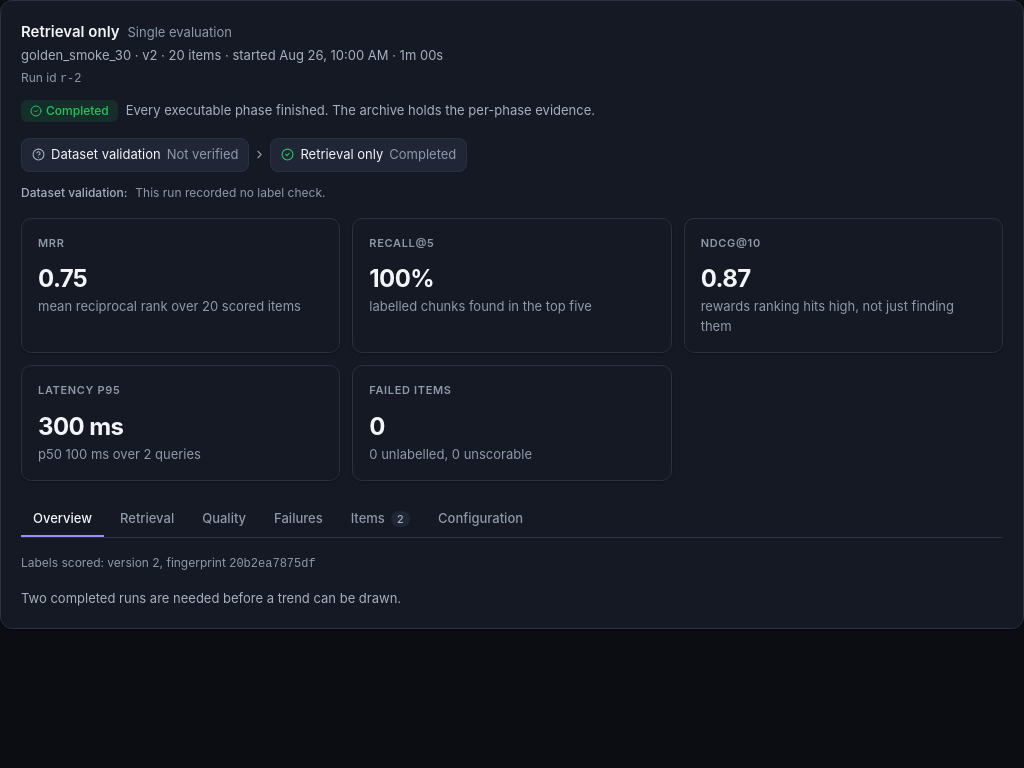
Test: report tabs › says a retrieval run produced no answers rather than showing an empty quality tab
Step 1. Click the tab "Quality" → (224, 519), box [190, 501, 258, 536]
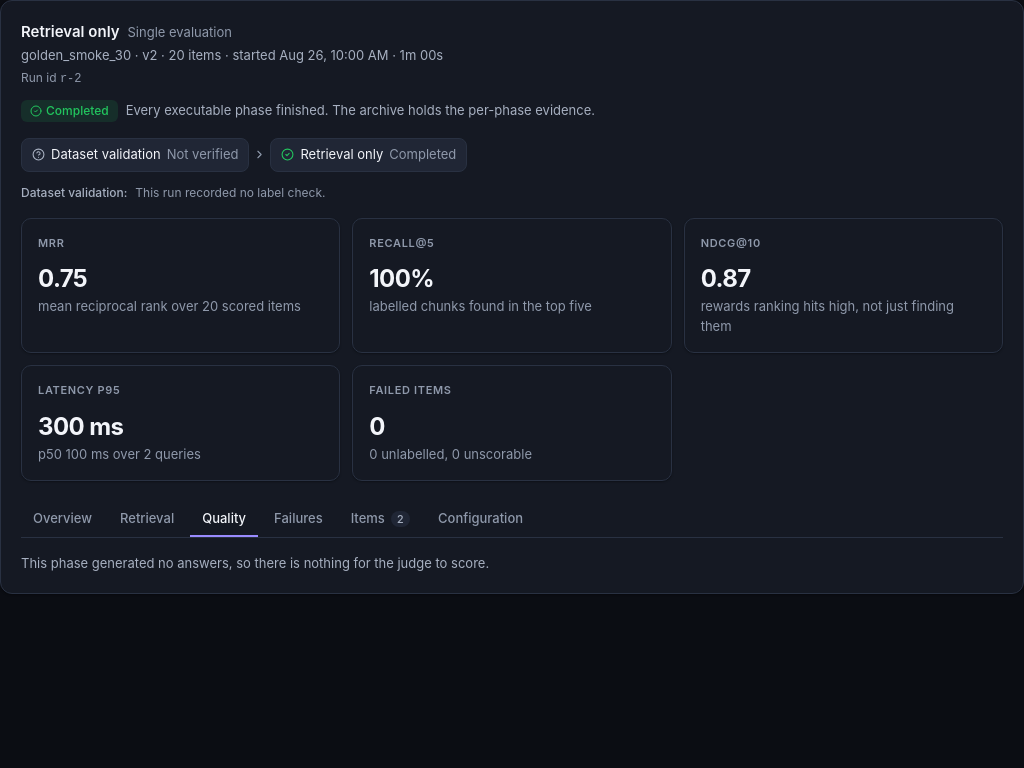
Now the text "generated no answers" is shown, box [21, 554, 489, 570]
